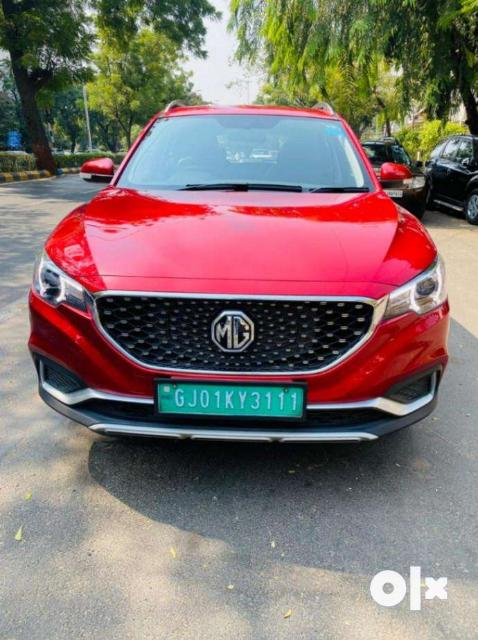Indian_Number_Plate: (157, 382, 308, 420)
